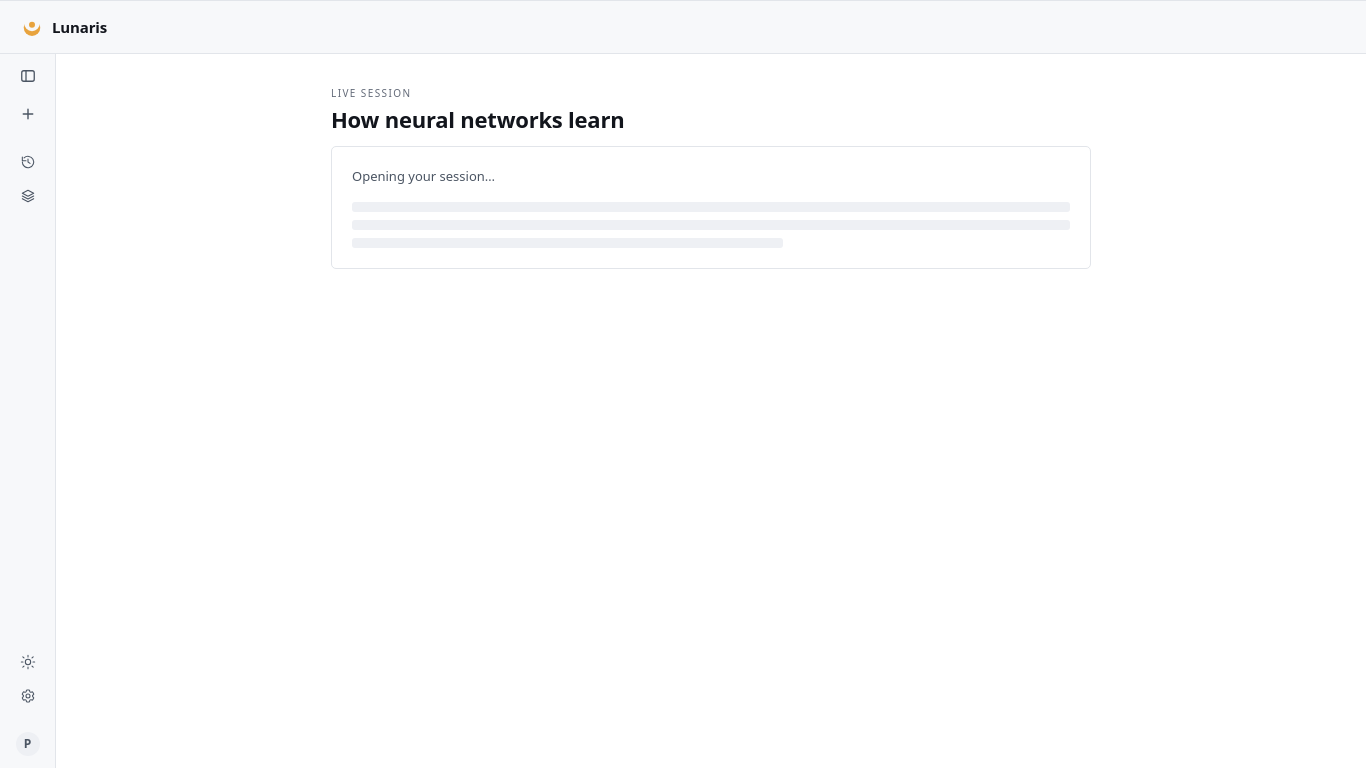
Test: the rail › opens when the learner asks for it, mid-session
Click the button named "expand sidebar": click(28, 76) [14, 62, 42, 90]
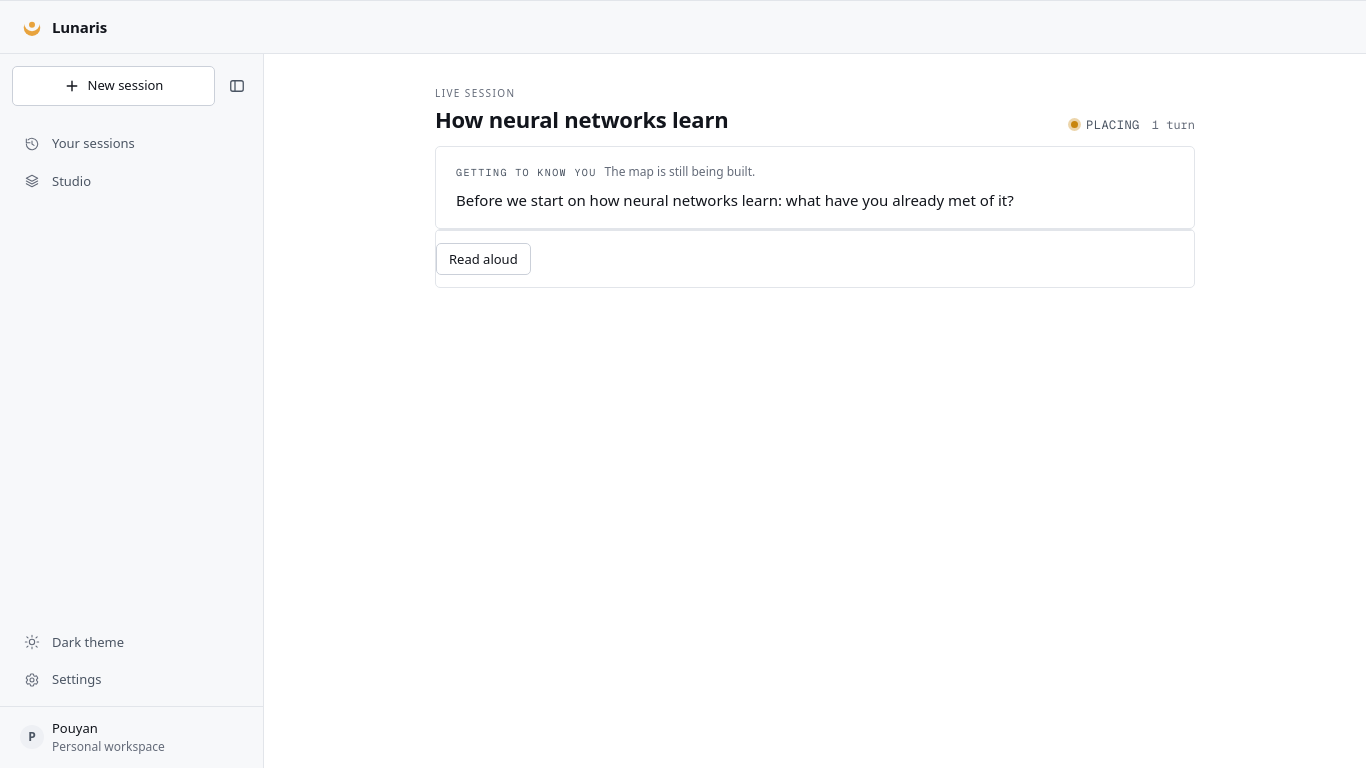
Now the button named "collapse sidebar" is shown, box [223, 72, 251, 100]
